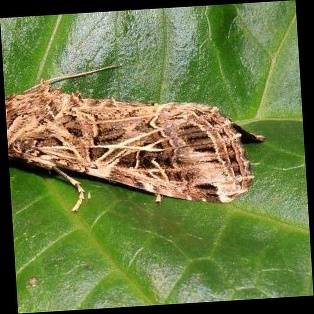Spodoptera litura: (8, 62, 266, 209)
